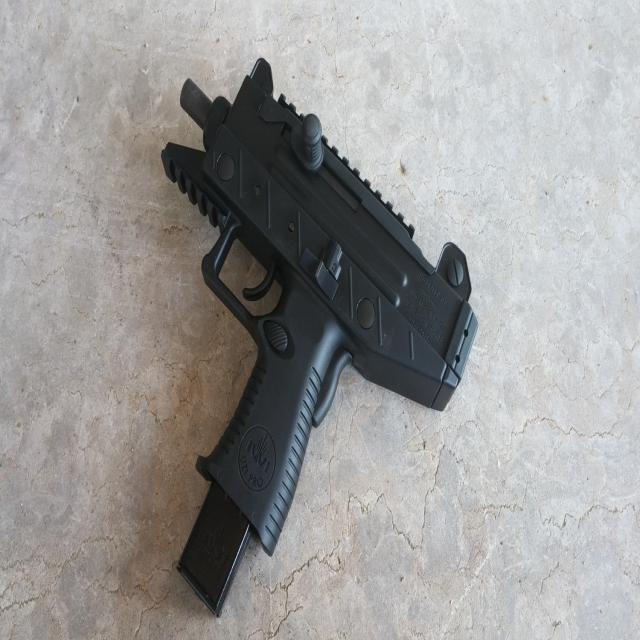SMG: (160, 61, 478, 614)
